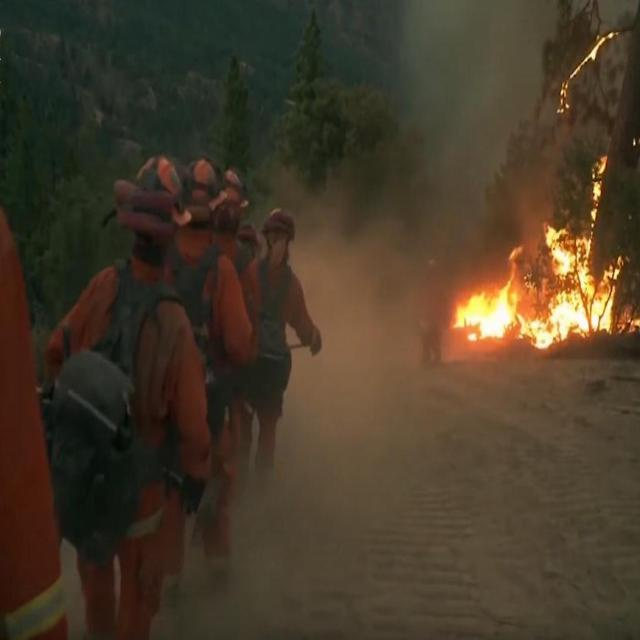fire: (453, 156, 629, 354)
